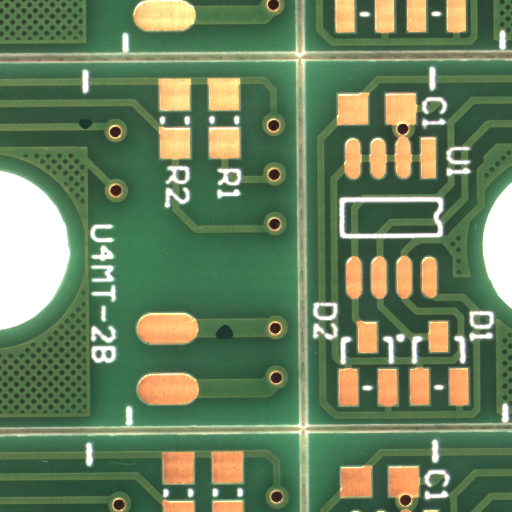Mouse_bite: (225, 332, 247, 346), (85, 123, 99, 134)
